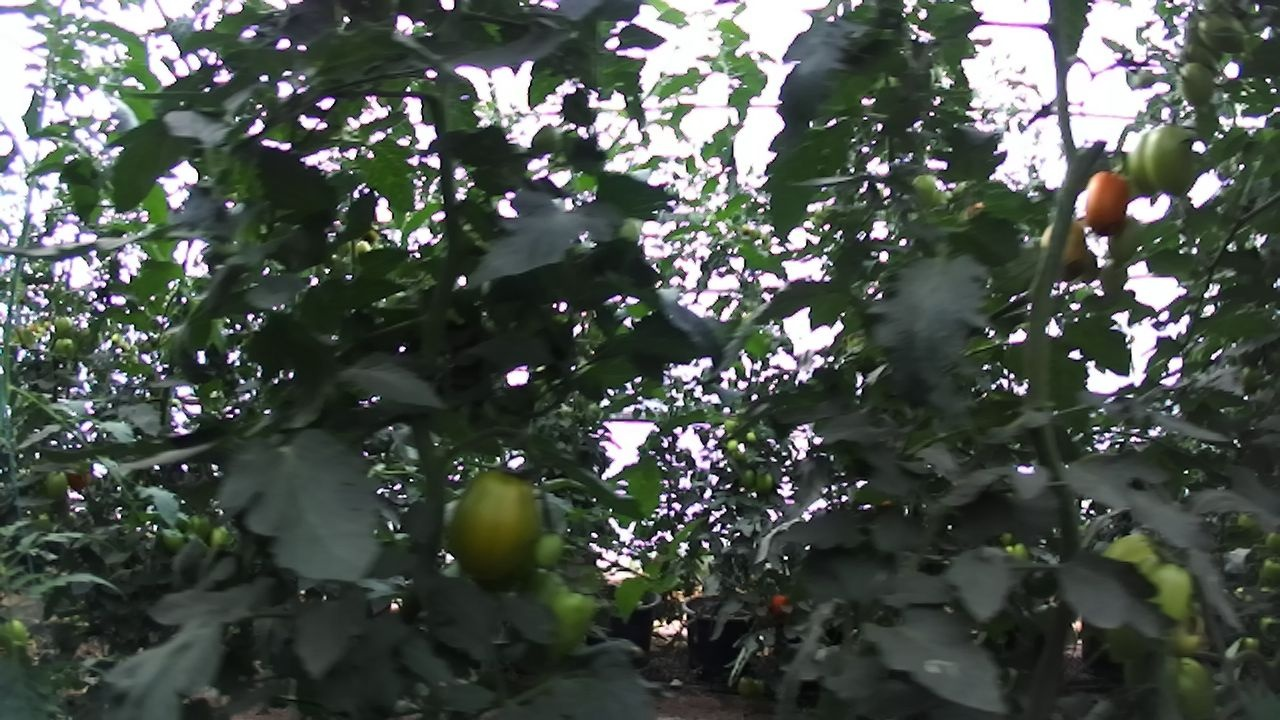tomato: (436, 458, 555, 605), (1096, 542, 1208, 675), (501, 560, 610, 672), (1140, 107, 1211, 209), (1151, 643, 1232, 720), (1032, 209, 1100, 289), (1073, 160, 1141, 238), (1192, 1, 1259, 62), (1169, 55, 1230, 114), (1098, 208, 1152, 266), (524, 523, 573, 577), (522, 114, 573, 163), (0, 610, 43, 661), (904, 163, 947, 212), (40, 462, 74, 509), (182, 504, 216, 550), (764, 585, 796, 621), (748, 463, 779, 500), (734, 462, 766, 494), (49, 332, 78, 365), (49, 309, 79, 339), (721, 435, 742, 456)
